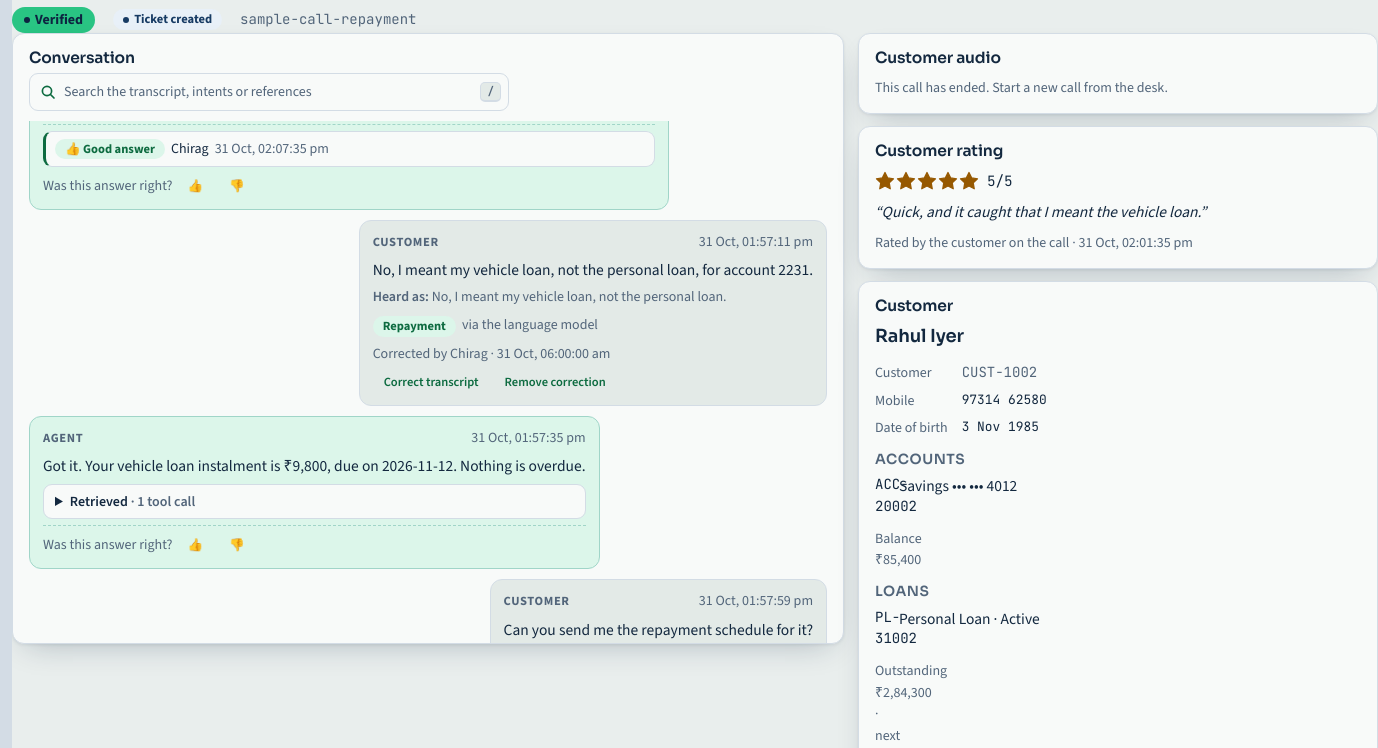
Test: caller transcript corrections (Level 2 §6) › says the agent will use a corrected date of birth
(page scrolled)
Click the button "Correct transcript" at (431, 382), box [373,369,490,395]
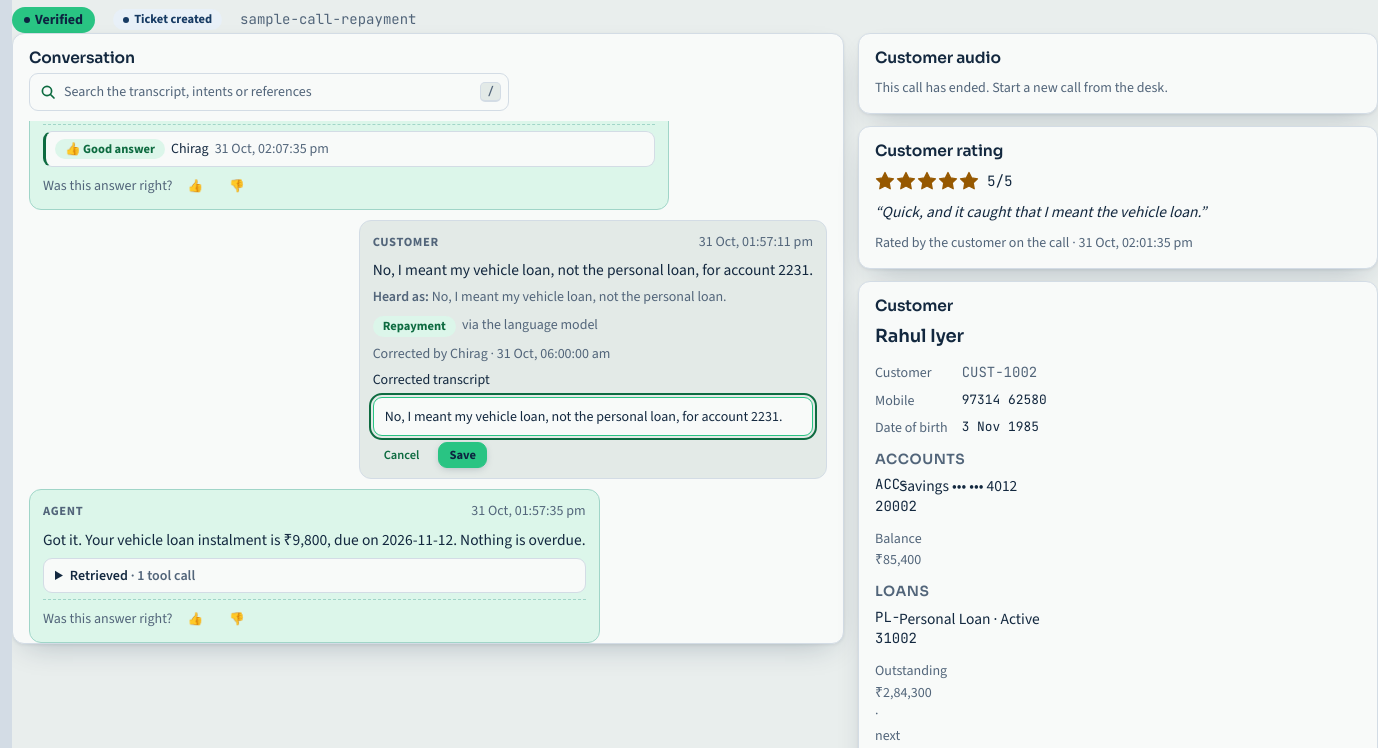
Replace the text in the field labelled "Corrected transcript" with "I was born on 3 November 1985" at (593, 416), box [373,397,813,436]
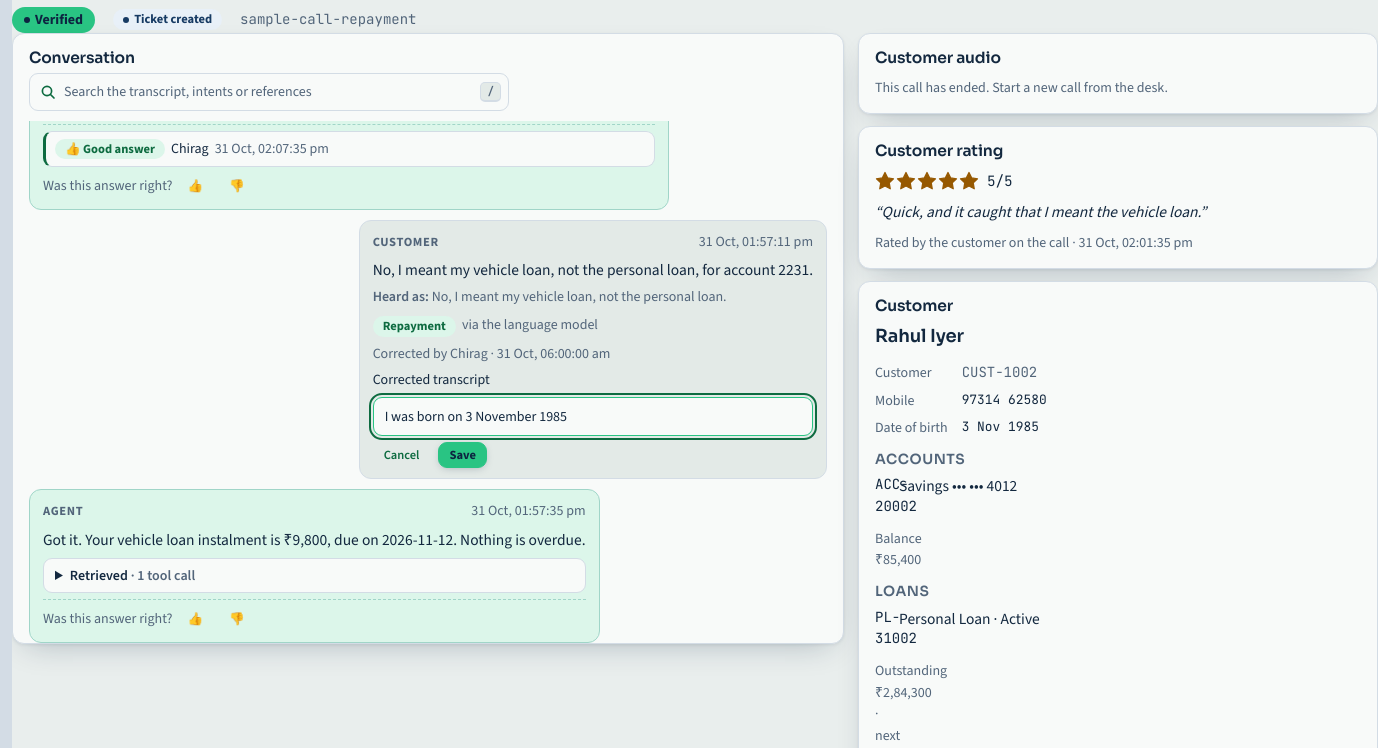
Click the button "Save" at (463, 455), box [438,442,487,468]
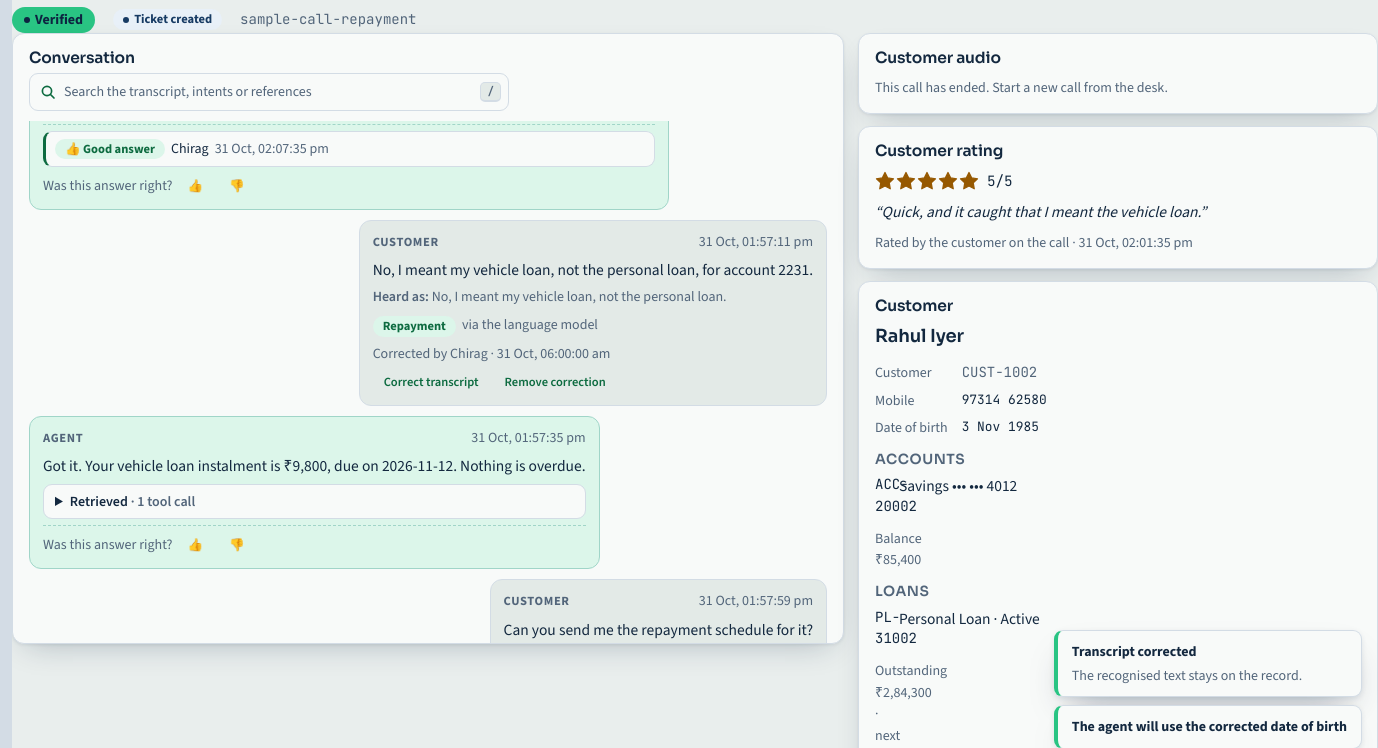
expect the text "The agent will use the corrected date of birth" is shown: met, box [1072,716,1347,738]
